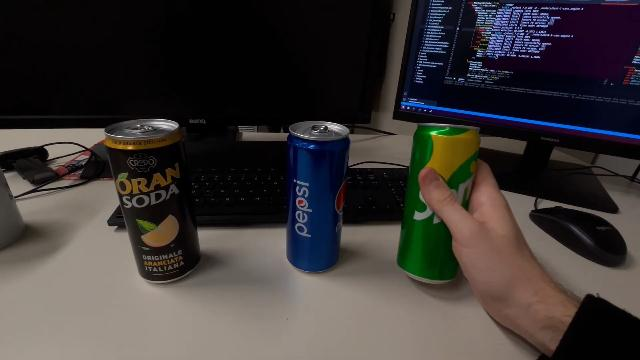OranSoda: (102, 118, 202, 286)
Pepsi: (284, 118, 350, 274)
Sprite: (395, 119, 483, 287)
